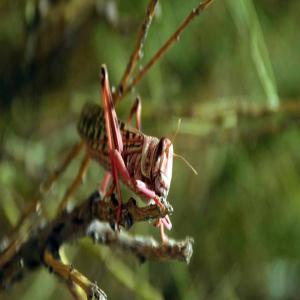locust: (78, 53, 194, 211)
